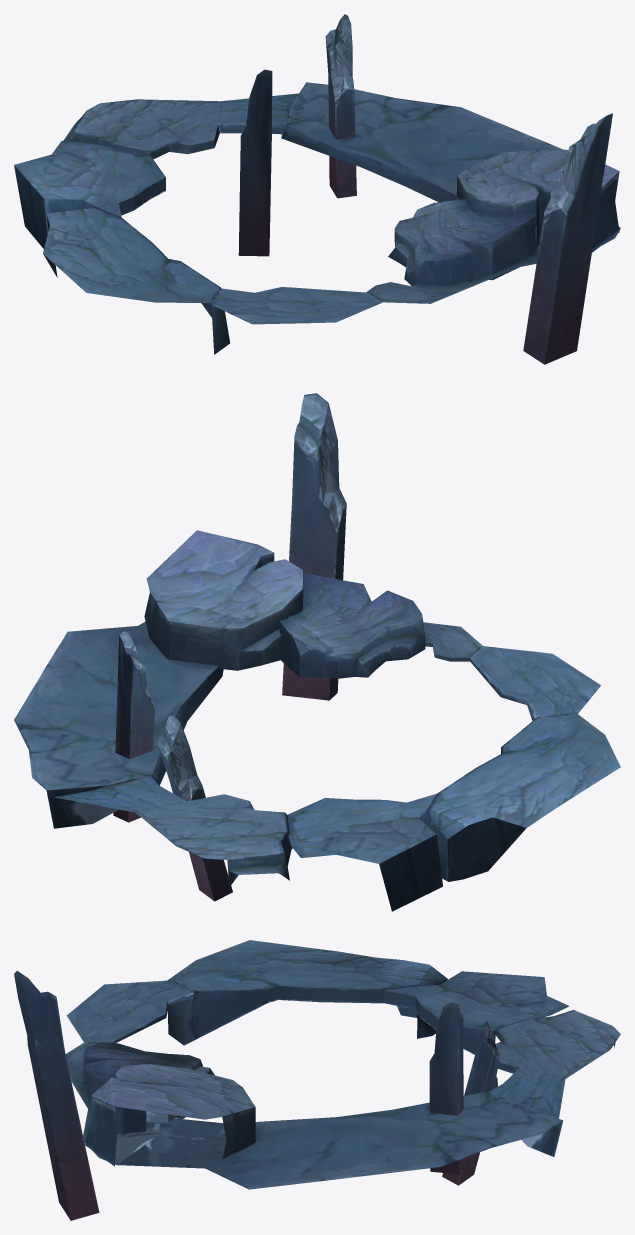
File: Area01_5.fbx
3 views of the same model, one above another, from view 1: azimuth 30°, elevation 25°; view 2: azimuth 150°, elevation 25°; view 3: azimuth 270°, elevation 25° (orthographic). The views are drawn at different scales.
Visible parts, largest first — view 1: Area01_5; view 2: Area01_5; view 3: Area01_5.
Part boxes in pixels (bbox=[...]): Area01_5: bbox=[14, 14, 620, 364]; Area01_5: bbox=[14, 393, 620, 911]; Area01_5: bbox=[14, 940, 620, 1220].
Bounding box in the file's own units: 4608 × 2323 × 4736.
1 material, 1 textured.
